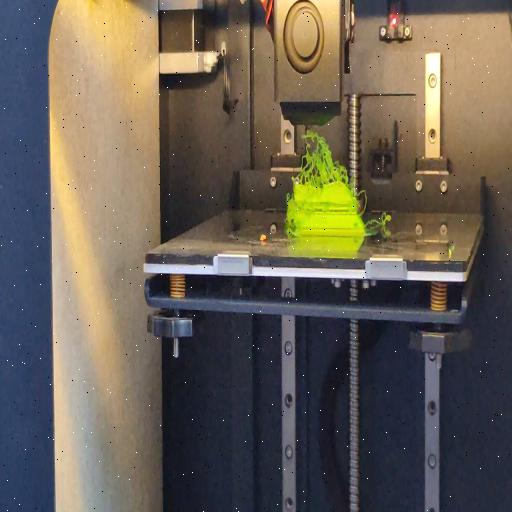spaghetti: (291, 128, 352, 187), (364, 210, 392, 232), (360, 187, 368, 215), (285, 226, 295, 236)
